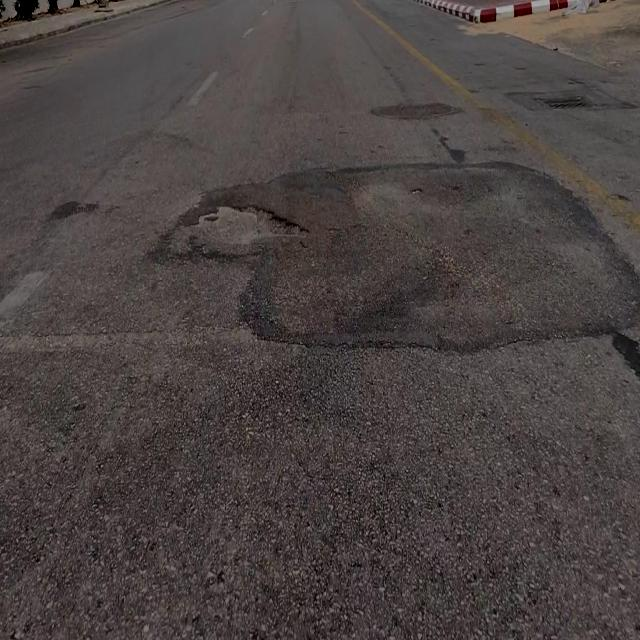Potholes: (203, 199, 301, 251)
